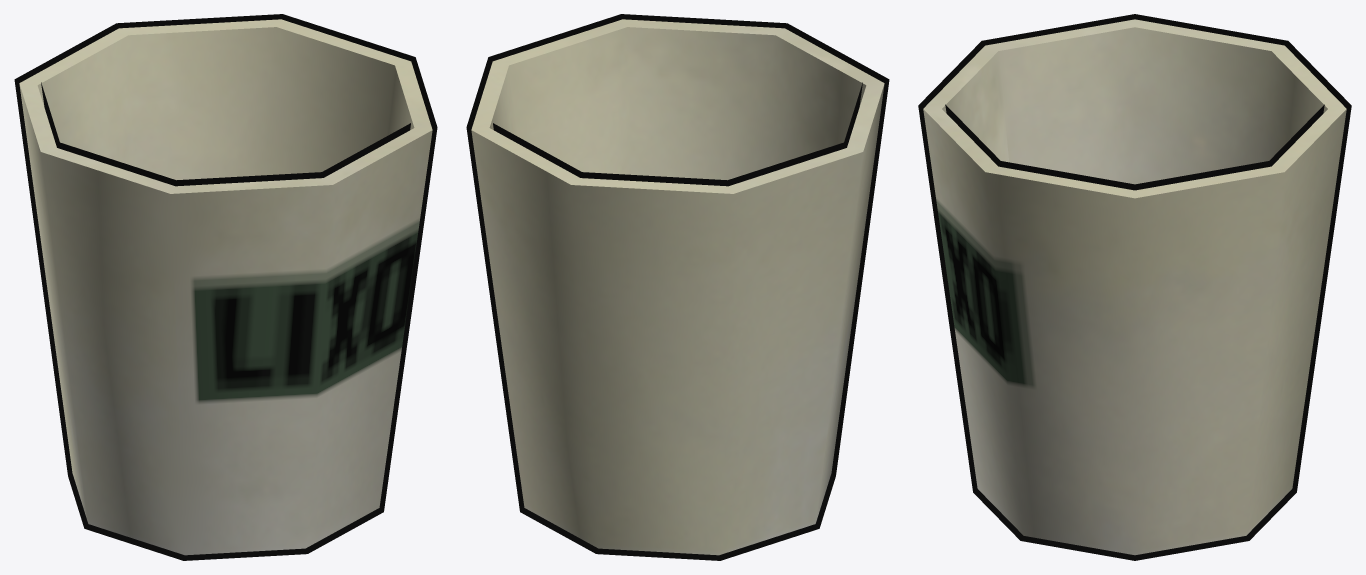
Rendered from Lixo.glb.
3 renders of one model, left to right at view 1: azimuth 30°, elevation 25°; view 2: azimuth 150°, elevation 25°; view 3: azimuth 270°, elevation 25°, orthographic.
Visible parts, largest first — view 1: Lixo; view 2: Lixo; view 3: Lixo.
Boxes of the visible parts, <box> form: Lixo: <box>14,14,437,560</box>; Lixo: <box>466,14,889,560</box>; Lixo: <box>918,14,1351,560</box>.
Size of the model in its own units: 0.3525 by 0.3499 by 0.3525.
Materials: 2 (1 with a texture image).
